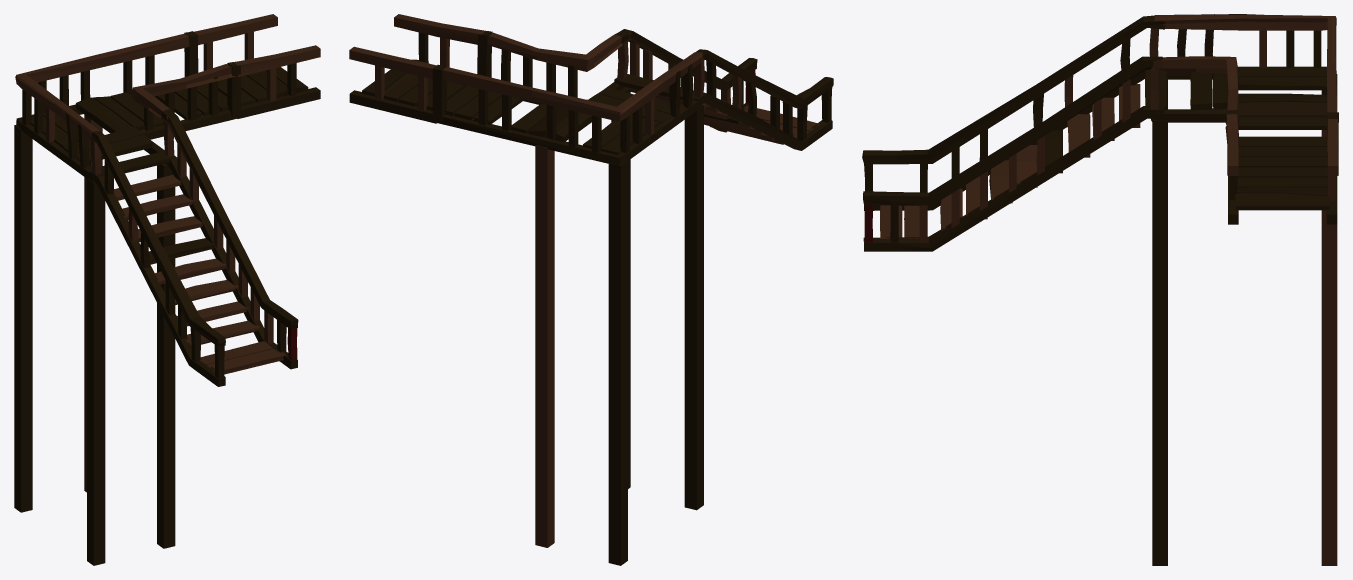
The picture shows the model from 3 angles, left to right: view 1: azimuth 30°, elevation 25°; view 2: azimuth 150°, elevation 25°; view 3: azimuth 270°, elevation 25°; orthographic projection. The views are drawn at different scales.
Parts seen in each view (by area): view 1: Cube.023; view 2: Cube.023; view 3: Cube.023.
Boxes of the visible parts, x1,y1,x2,y2 form: Cube.023: [14, 14, 320, 565]; Cube.023: [349, 14, 833, 565]; Cube.023: [862, 14, 1338, 565].
Size of the model in its own units: 1781 by 2841 by 2424.
